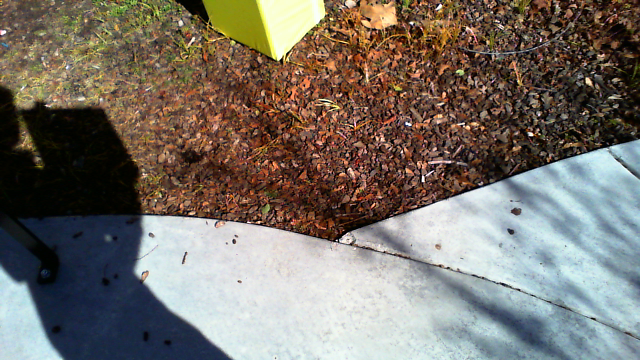cube: (198, 1, 327, 64)
